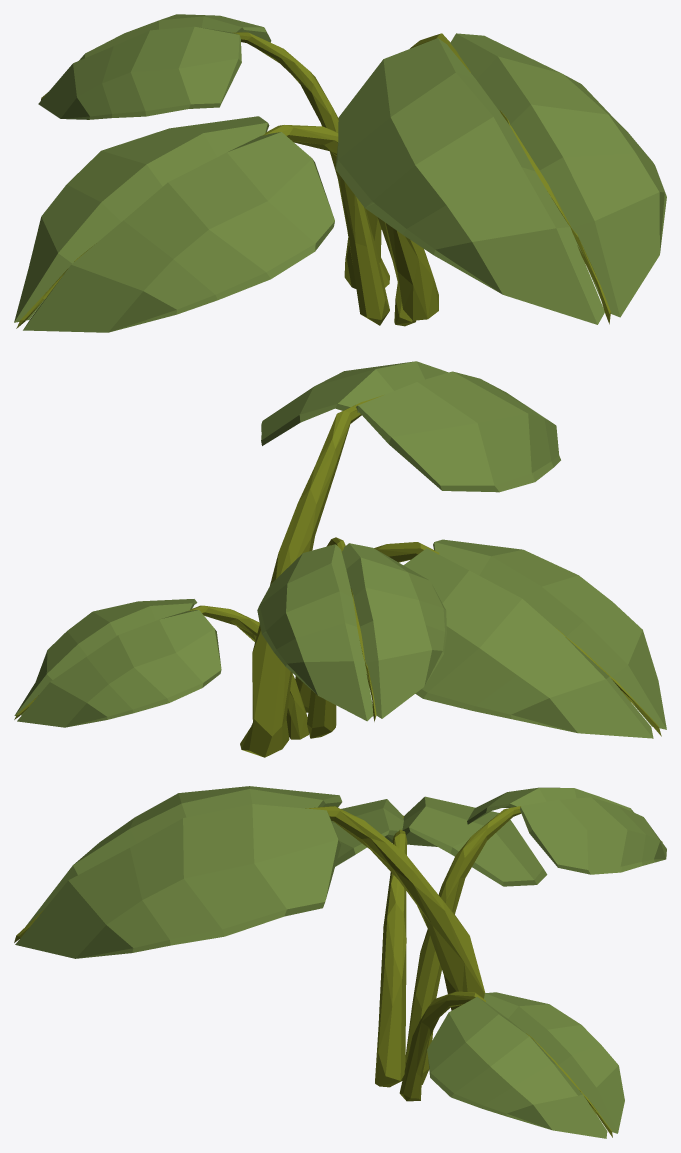
Rendered from jungleGrass2.fbx.
3 renders of one model, top to bottom at view 1: azimuth 30°, elevation 25°; view 2: azimuth 150°, elevation 25°; view 3: azimuth 270°, elevation 25°, orthographic. The views are drawn at different scales.
Visible parts, largest first — view 1: Cube.003, Cube.001, Cube.002; view 2: Cube.001, Cube.003, Cube.002, Cube.004; view 3: Cube.003, Cube.004, Cube.002, Cube.001.
Boxes of the visible parts, x1,y1,x2,y2 form: Cube.003: (335,33,666,324); Cube.001: (14,116,438,332); Cube.002: (38,14,389,325); Cube.001: (295,539,666,738); Cube.003: (240,361,560,757); Cube.002: (257,537,446,738); Cube.004: (14,599,308,739); Cube.003: (14,786,485,1010); Cube.004: (399,991,624,1138); Cube.002: (405,787,666,1084); Cube.001: (331,796,547,1087).
Bounding box in the file's own units: 563 × 300 × 595.
